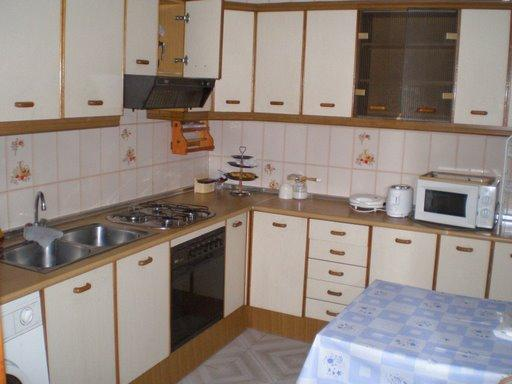Electrodomestico: (143, 204, 237, 346), (417, 171, 498, 233), (373, 168, 416, 223), (349, 180, 394, 221)
Lavaplatos: (14, 184, 163, 277)
